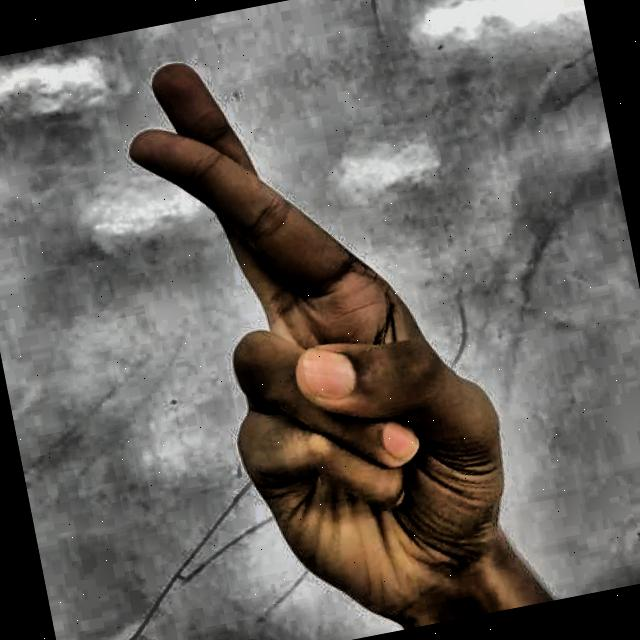Ra: (85, 0, 570, 640)
